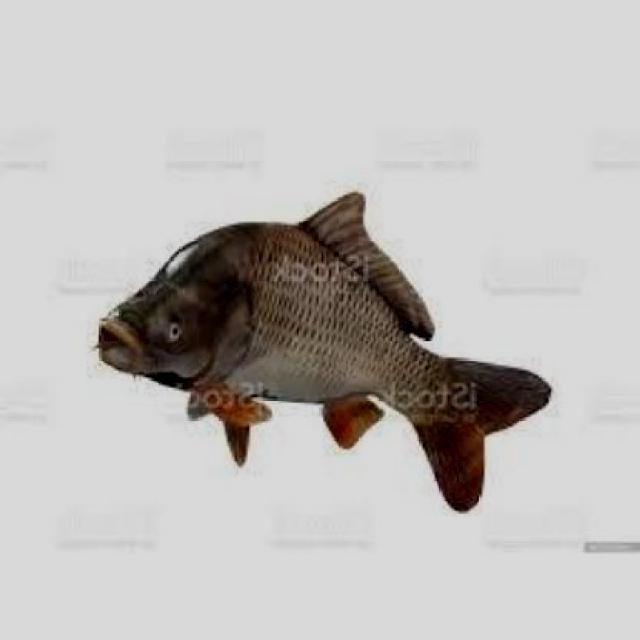ikan-mas: (89, 186, 552, 497)
